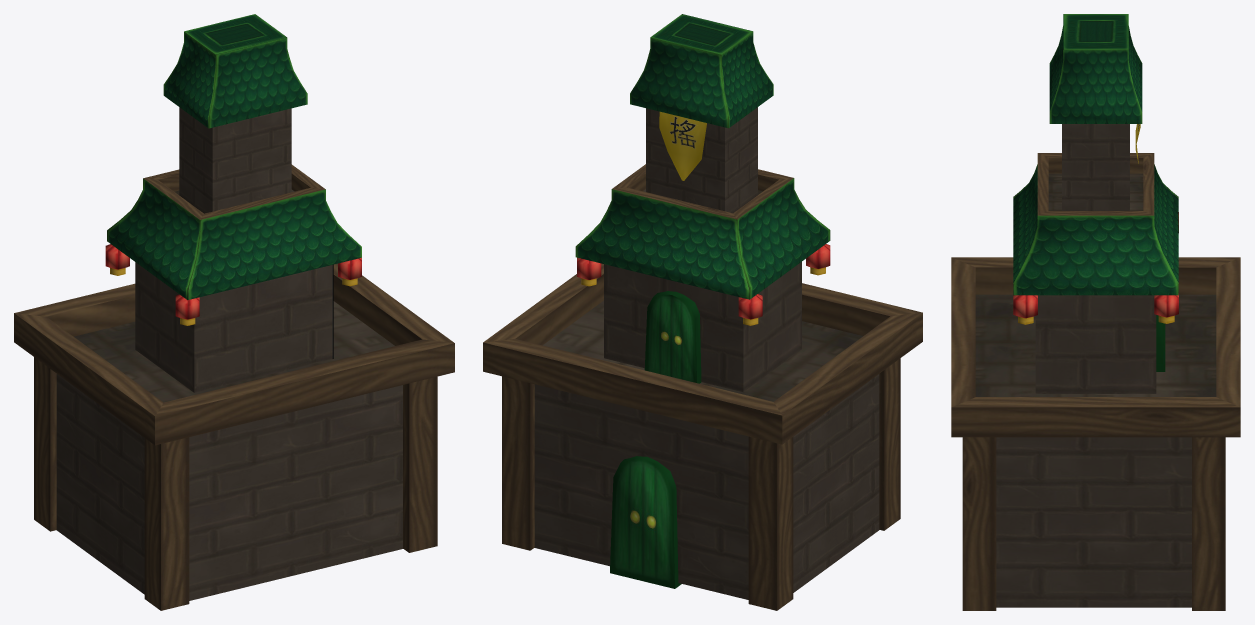
File: stuntower_upgrade2.fbx
3 views of the same model, side by side, from view 1: azimuth 30°, elevation 25°; view 2: azimuth 150°, elevation 25°; view 3: azimuth 270°, elevation 25° (orthographic). The views are drawn at different scales.
Parts seen in each view (by area): view 1: basis, upgrade1, upgrade2; view 2: basis, upgrade1, upgrade2; view 3: basis, upgrade1, upgrade2.
Part boxes in pixels (x1,y1,x2,y2): basis: (14,164,454,610); upgrade1: (163,14,307,213); upgrade2: (105,244,361,325); basis: (483,164,922,610); upgrade1: (630,14,773,213); upgrade2: (577,111,830,325); basis: (951,153,1240,610); upgrade1: (1049,14,1142,210); upgrade2: (1013,124,1178,324).
Size of the model in its own units: 430 by 687 by 350.
1 material, 1 textured.
